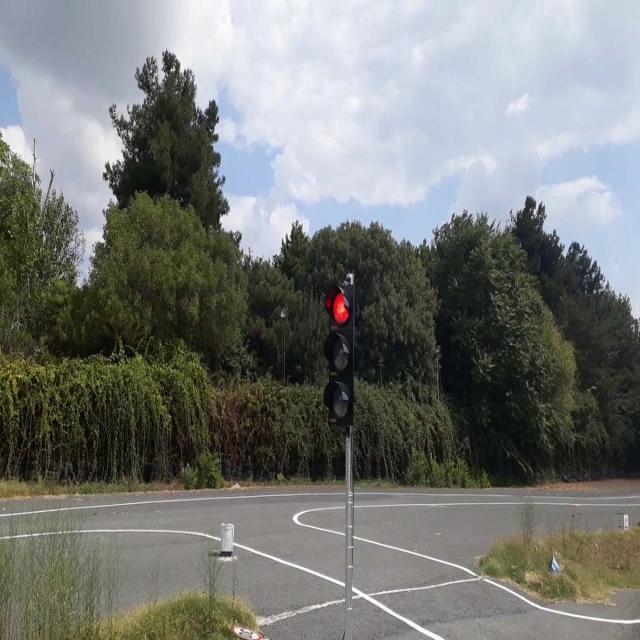kirmizi: (326, 283, 356, 424)
